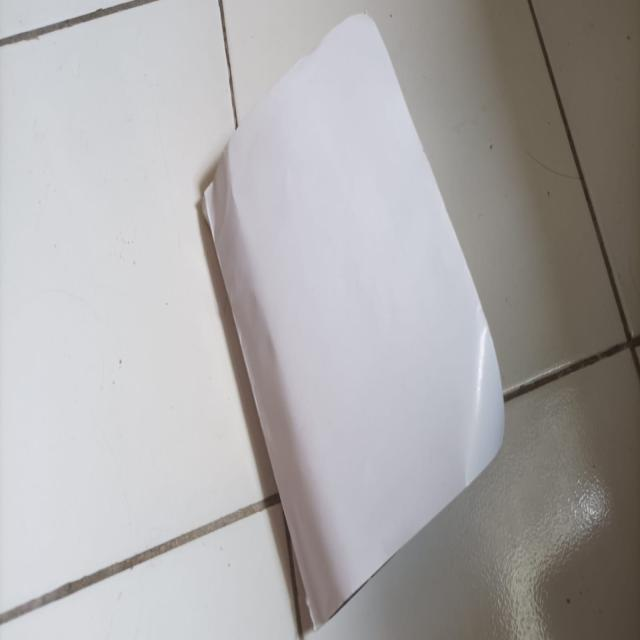Organik: (201, 12, 503, 630)
